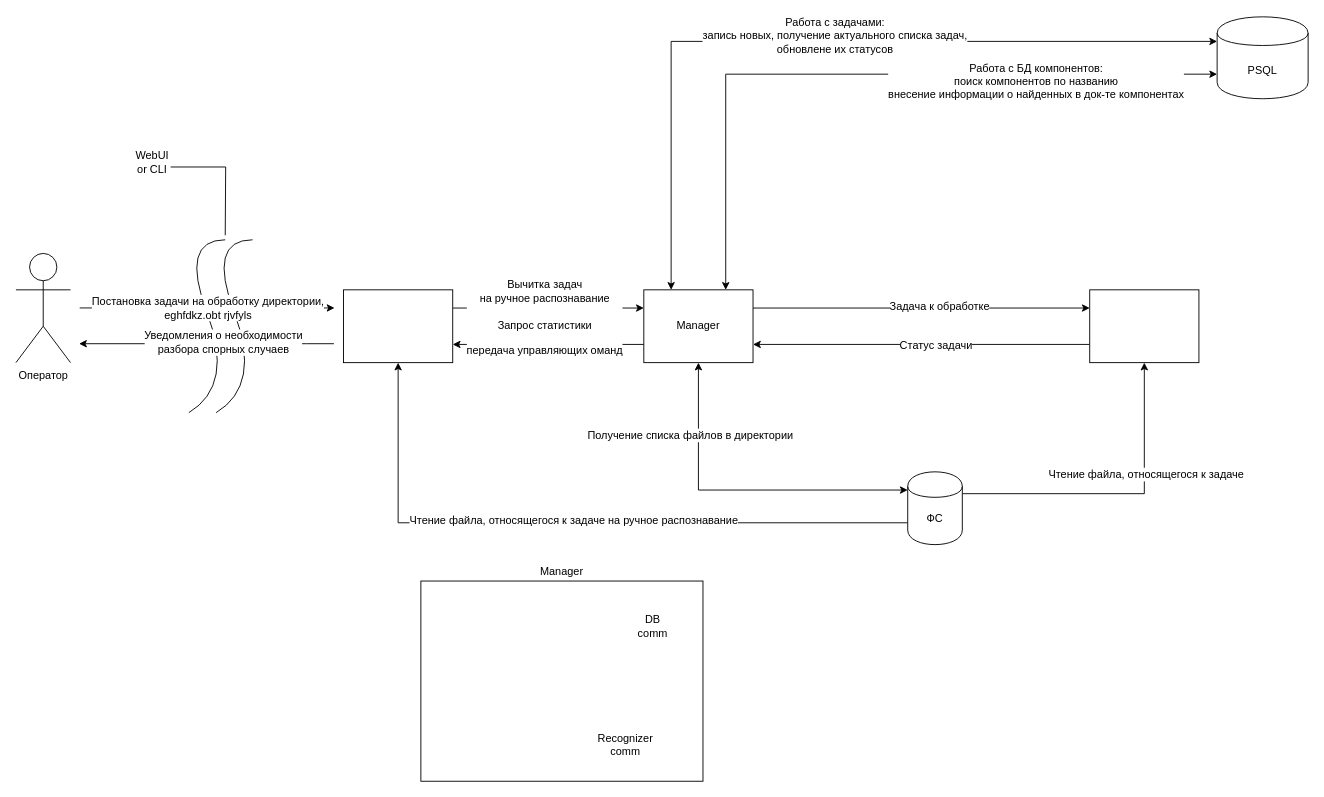
Image size: 1324x797. Some labels were removed from this diagram. The shapes that lost their labels are listed below. From the top down, each one's centre as x and y in pixels, then its label:
[398,326]: Client
[1144,326]: Recognizer
